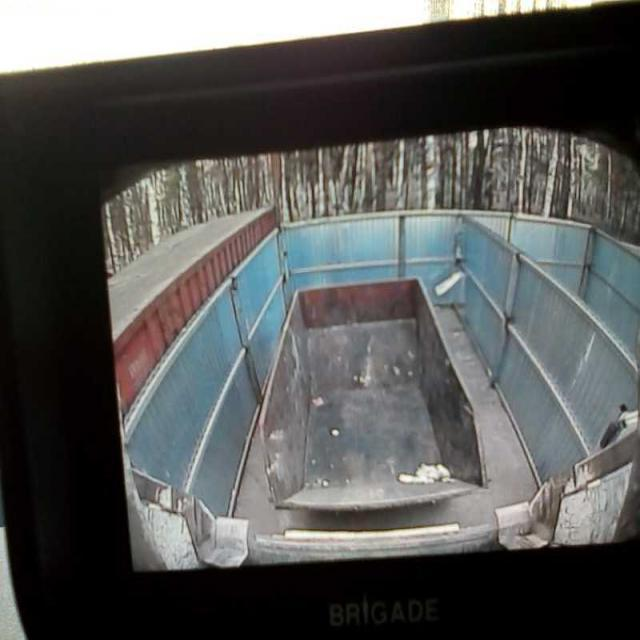Dumpster: (259, 274, 487, 514)
